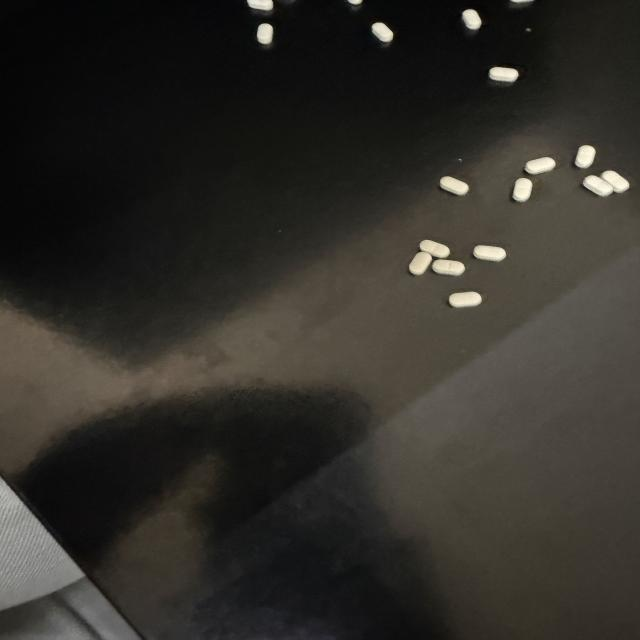pill: (583, 175, 613, 196), (601, 170, 629, 192), (409, 252, 432, 275), (440, 177, 469, 195), (420, 240, 449, 258), (474, 245, 506, 261), (525, 157, 555, 174), (432, 260, 465, 275), (512, 178, 532, 202), (449, 292, 481, 307), (489, 67, 519, 82), (461, 9, 482, 30), (575, 146, 595, 168), (372, 23, 393, 42), (256, 23, 274, 45), (247, 0, 273, 11), (348, 0, 362, 5), (511, 0, 533, 3)
